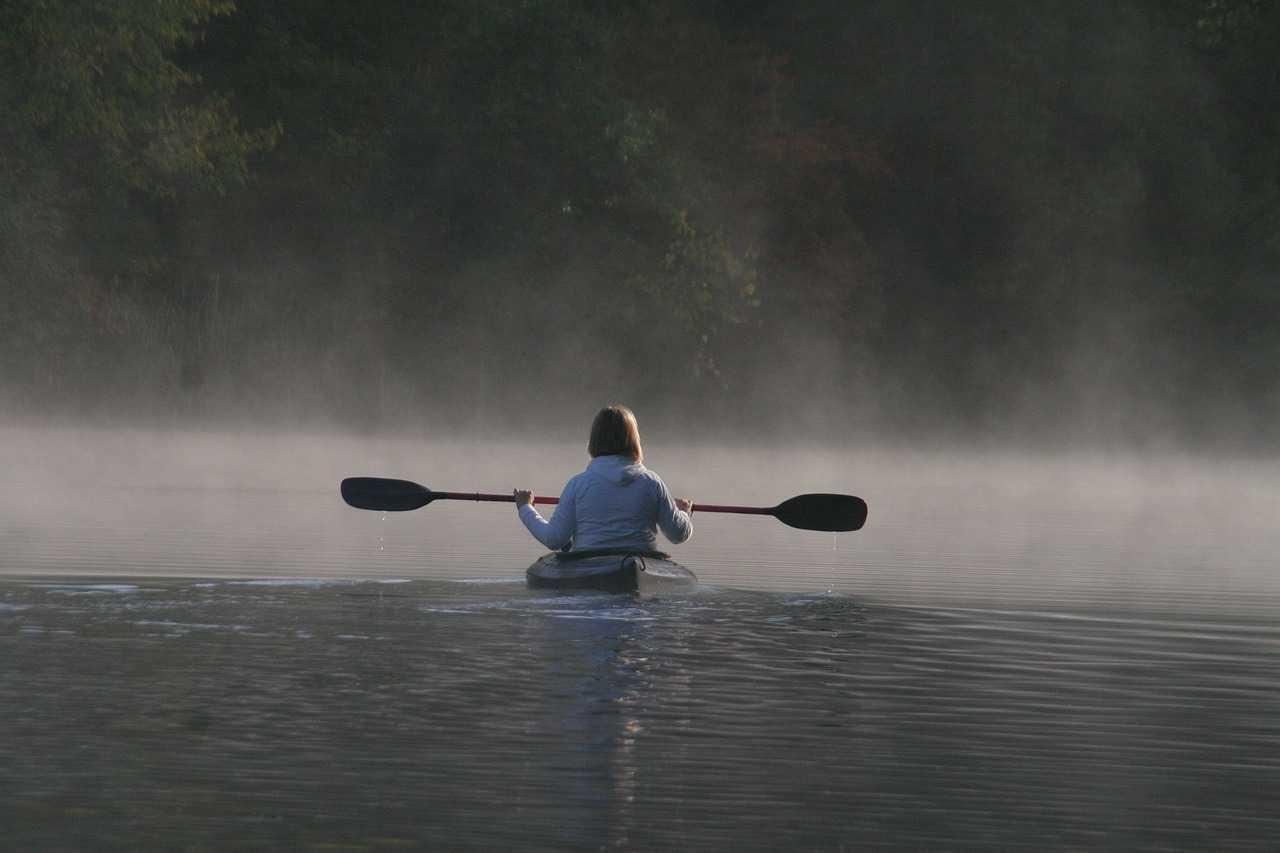kayak: (524, 551, 698, 590)
